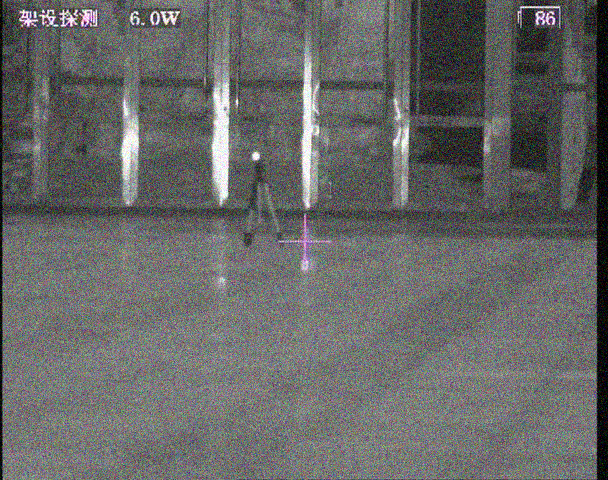my: (250, 150, 261, 162)
